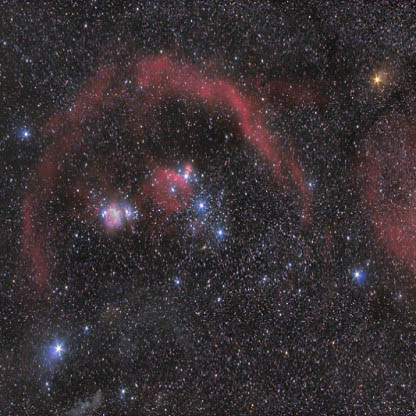Orion: (42, 327, 76, 367), (365, 58, 393, 99), (201, 220, 233, 248), (349, 258, 377, 288), (184, 198, 218, 219), (170, 162, 197, 188), (18, 117, 39, 146)
